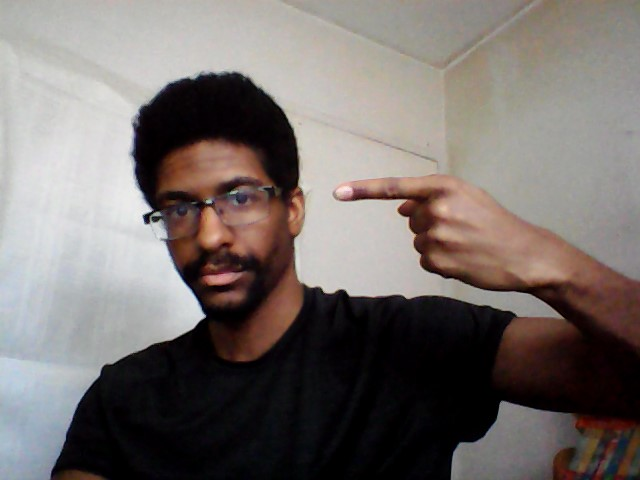g: (330, 166, 563, 289)
